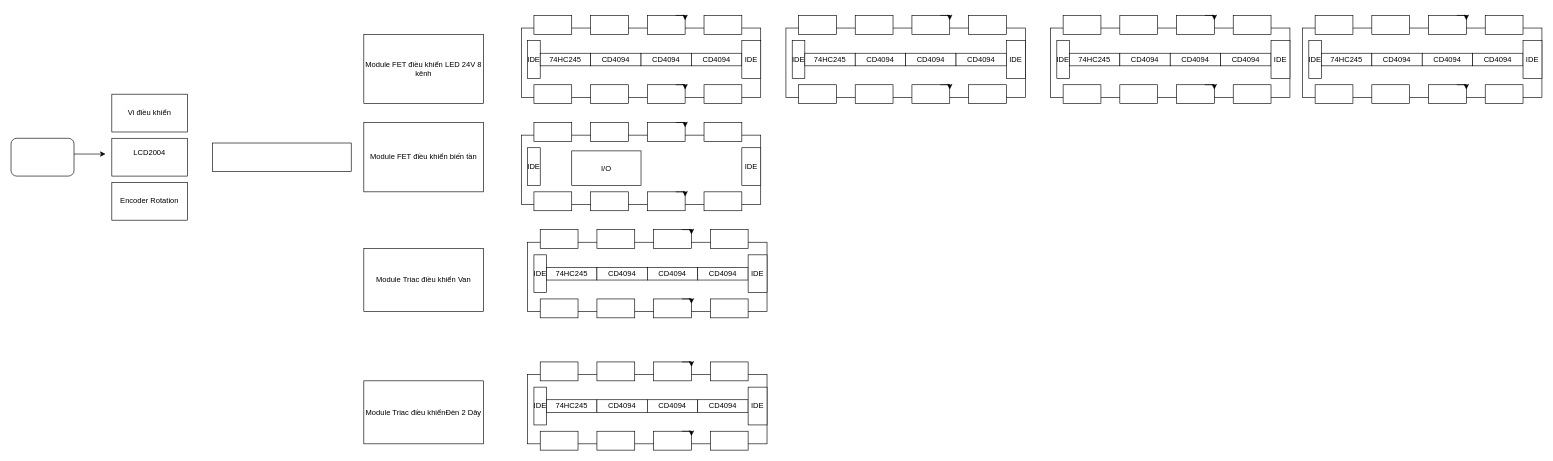
Image size: 1553x461. Some labels were removed from this diagram. The centre of each missing label's shape, as x and y in pixels:
"Dây IDE" goes at point (281, 156).
"PCF8574" goes at point (42, 157).
